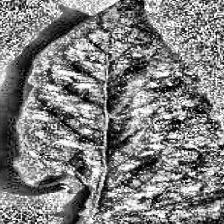spider mites: (13, 0, 224, 224)
